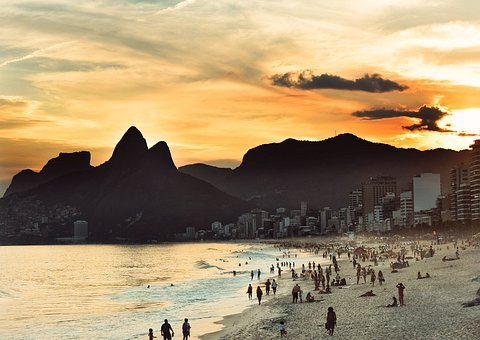beach: (4, 241, 471, 338)
mountain: (11, 134, 452, 220)
sky: (3, 1, 479, 143)
